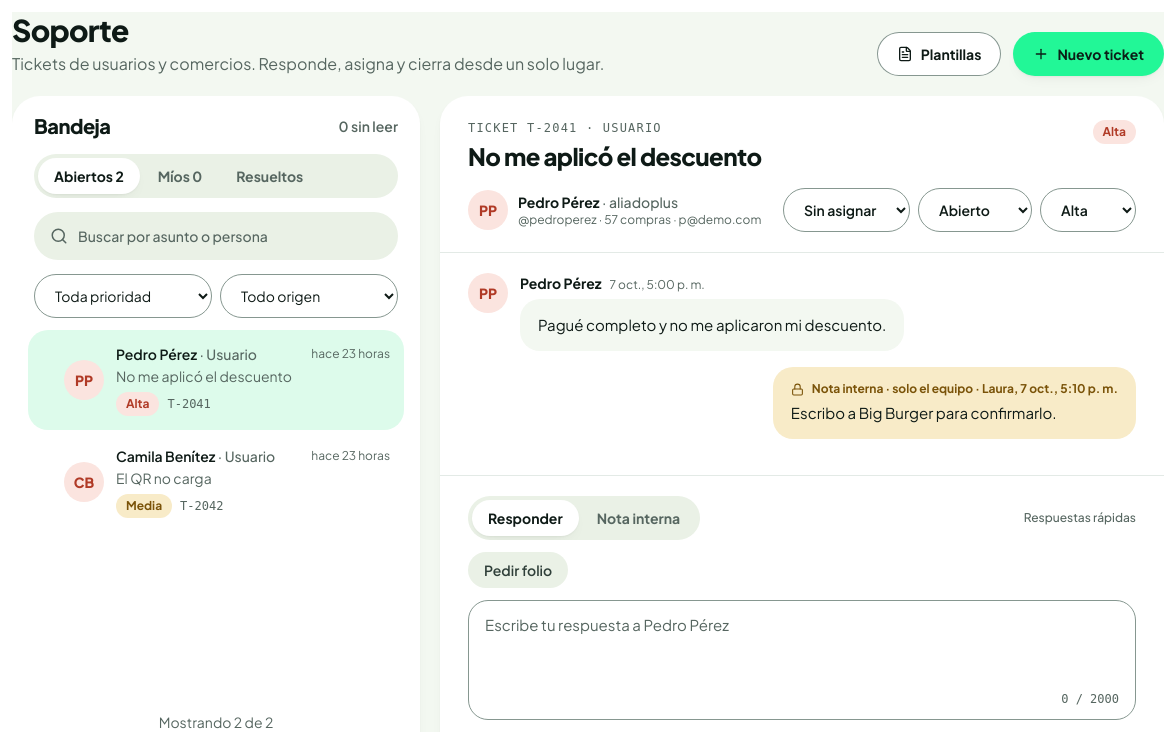
Test case: B13 · Soporte › la plantilla rapida rellena la respuesta
Click the button "No me aplicó el descuento". click: (216, 380)
box: x1=28 y1=330 x2=404 y2=430
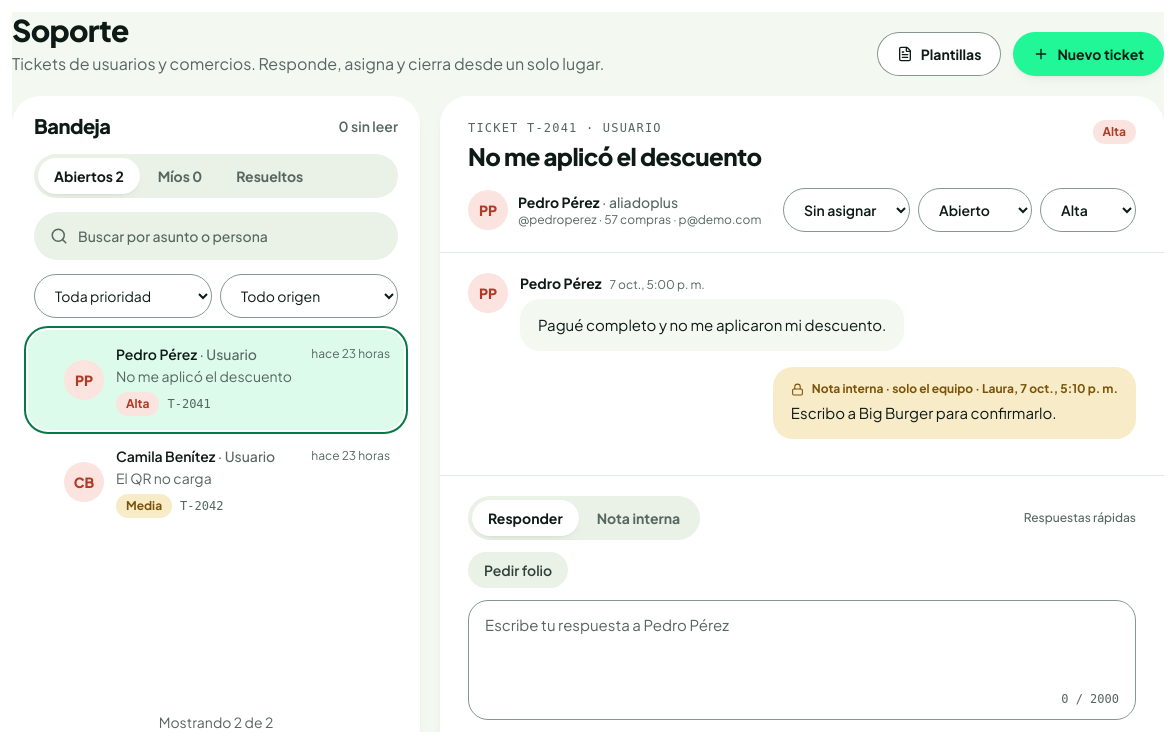
Expected: the heading "No me aplicó el descuento" is shown, x1=468 y1=140 x2=762 y2=172
Click the button "Pedir folio". click: (518, 570)
box: x1=468 y1=552 x2=568 y2=588
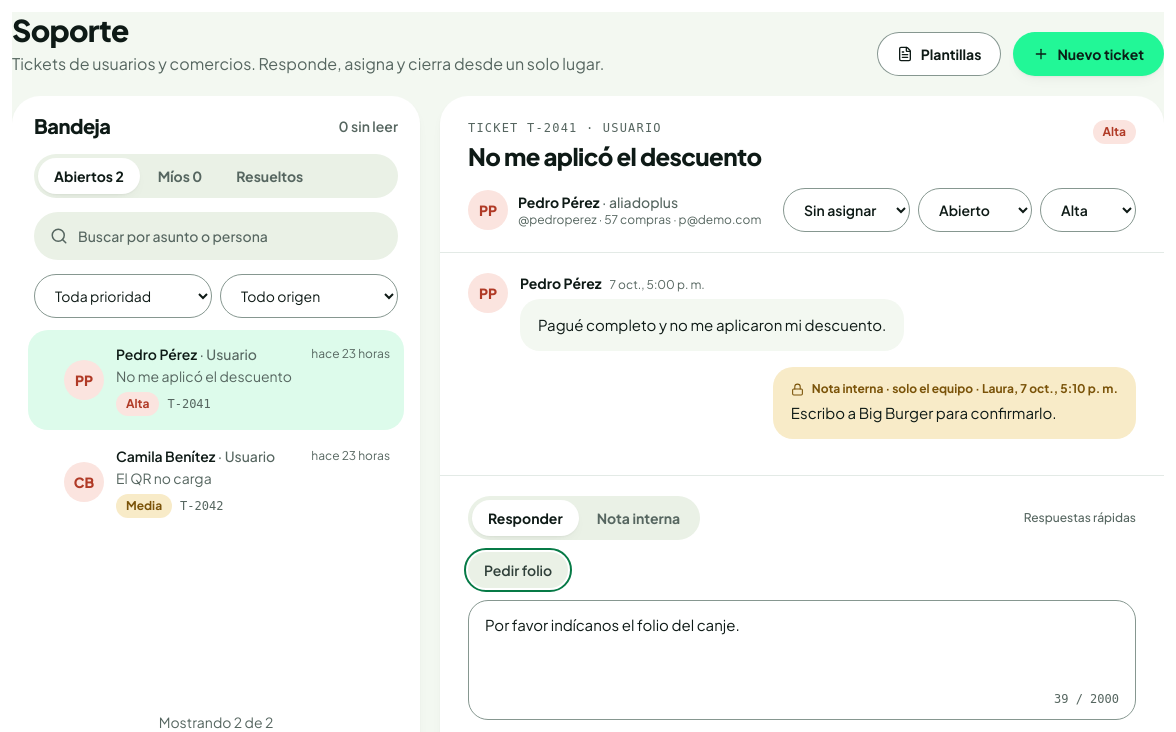
Expected: the text box named "tu respuesta a Pedro Pérez" holds "Por favor indícanos el folio del canje.", x1=485 y1=613 x2=1119 y2=685
